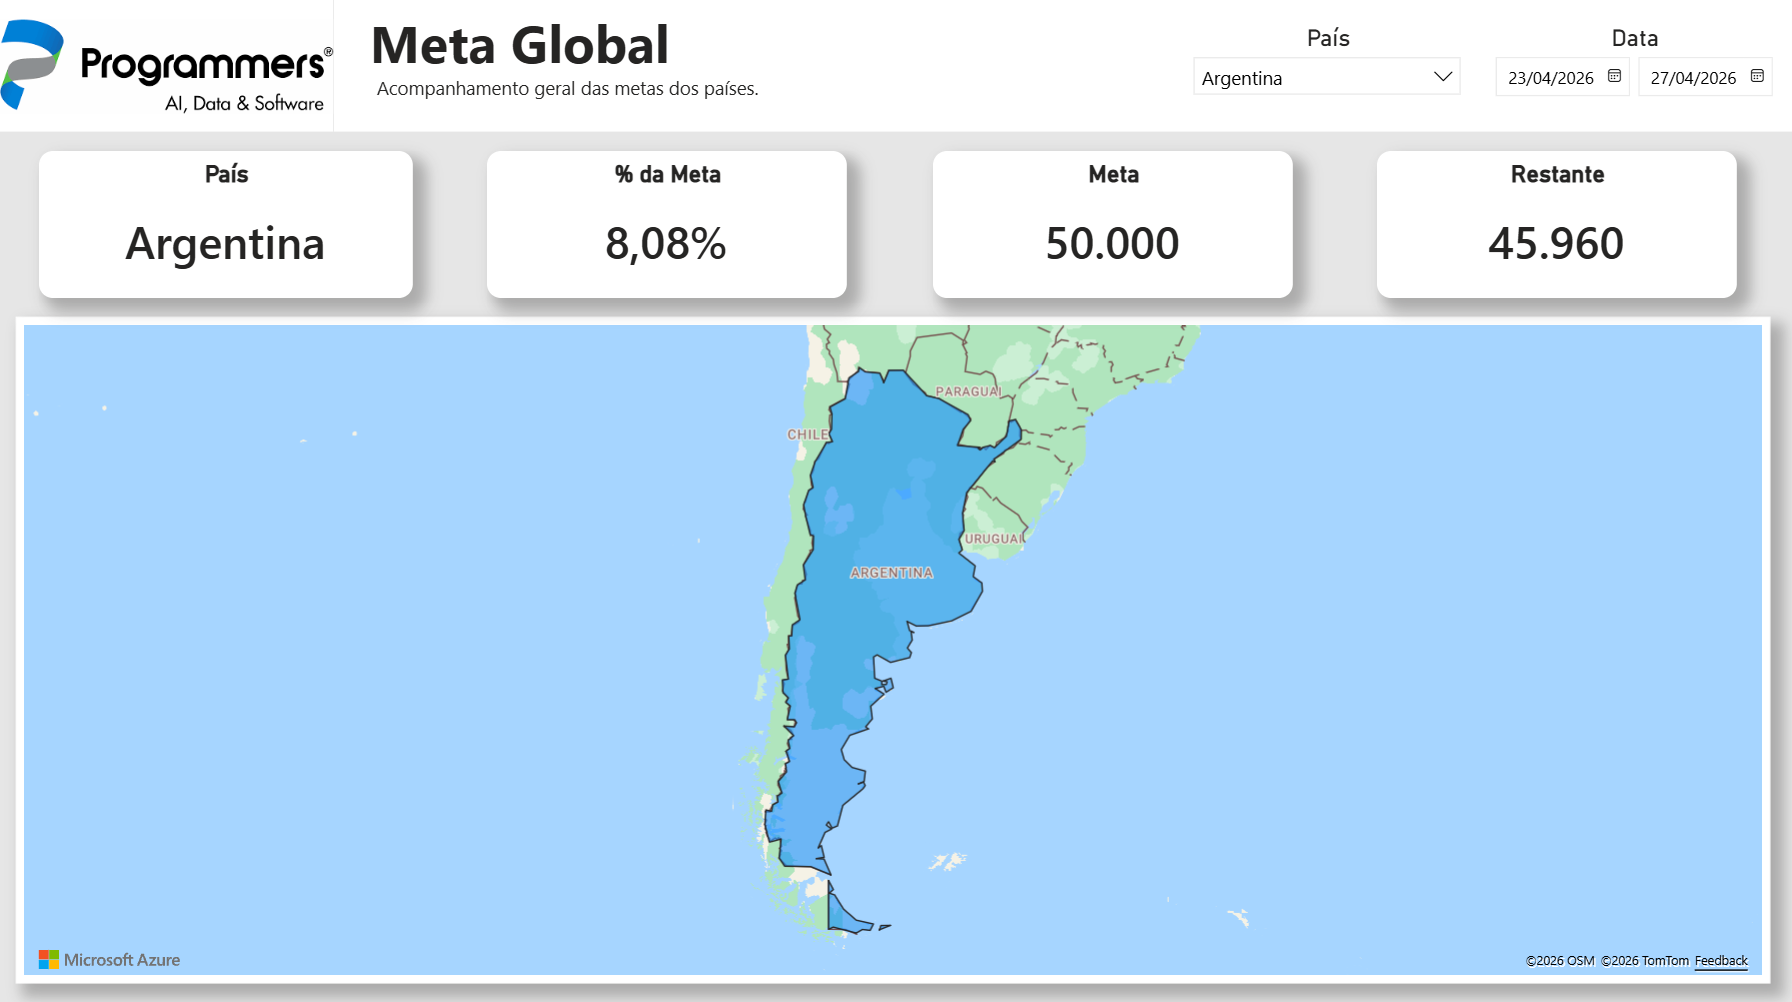

This screenshot's page, from the dashboard's own definition file:
{"tool":"powerbi","page":{"name":"Meta Global","canvas":[1280,720],"ordinal":2},"visuals":[{"type":"image","box":[0,0,238.3,94.3],"z":0},{"type":"textbox","box":[238.3,0,1041.7,94.3],"z":1000},{"type":"slicer","title":"País","fields":{"Values":["Dim_Pais.Nome do Pais"]},"box":[841.3,10.7,213,72],"z":2000},{"type":"slicer","title":"Data","fields":{"Values":["log_execucao_pipeline.data_hora"]},"box":[1054.3,10.7,225.7,72],"z":3000},{"type":"azureMap","fields":{"Category":["Dim_Pais.Nome do Pais"]},"box":[11.7,226.6,1252.8,475.6],"z":4000},{"type":"cardVisual","title":"País","fields":{"Data":["Tabela_Metas.Cartao_Nome_Pais"]},"box":[28.2,108,266.5,105],"z":5000},{"type":"cardVisual","title":"% da Meta","fields":{"Data":["Tabela_Metas.Cartao_Porcentagem_Meta"]},"box":[348.2,108,256.8,105],"z":6000},{"type":"cardVisual","title":"Meta","fields":{"Data":["Tabela_Metas.Cartao_Meta"]},"box":[666.3,108,256.8,105],"z":7000},{"type":"cardVisual","title":"Restante","fields":{"Data":["Tabela_Metas.Cartao_Restante"]},"box":[983.3,108,256.8,105],"z":8000}]}

Visuals, with their boxes in screenshot pixels (x1, y1, x2, y2), scaled from the page's 1280x720 canvas onto the 1792x1002 screenshot:
image: (0,0,334,131)
textbox: (334,0,1791,131)
"País" slicer: (1178,15,1476,115)
"Data" slicer: (1476,15,1791,115)
azureMap - Dim_Pais.Nome do Pais: (16,315,1770,977)
"País" cardVisual: (39,150,413,296)
"% da Meta" cardVisual: (487,150,847,296)
"Meta" cardVisual: (933,150,1292,296)
"Restante" cardVisual: (1377,150,1736,296)
